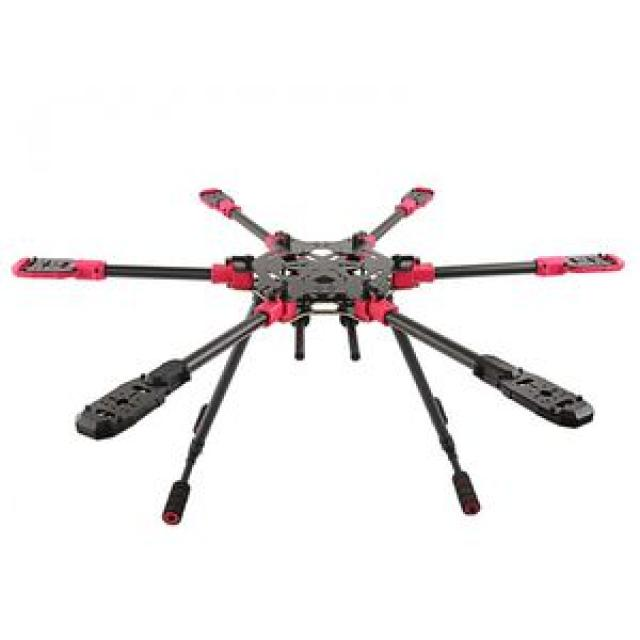drone: (0, 159, 640, 532)
